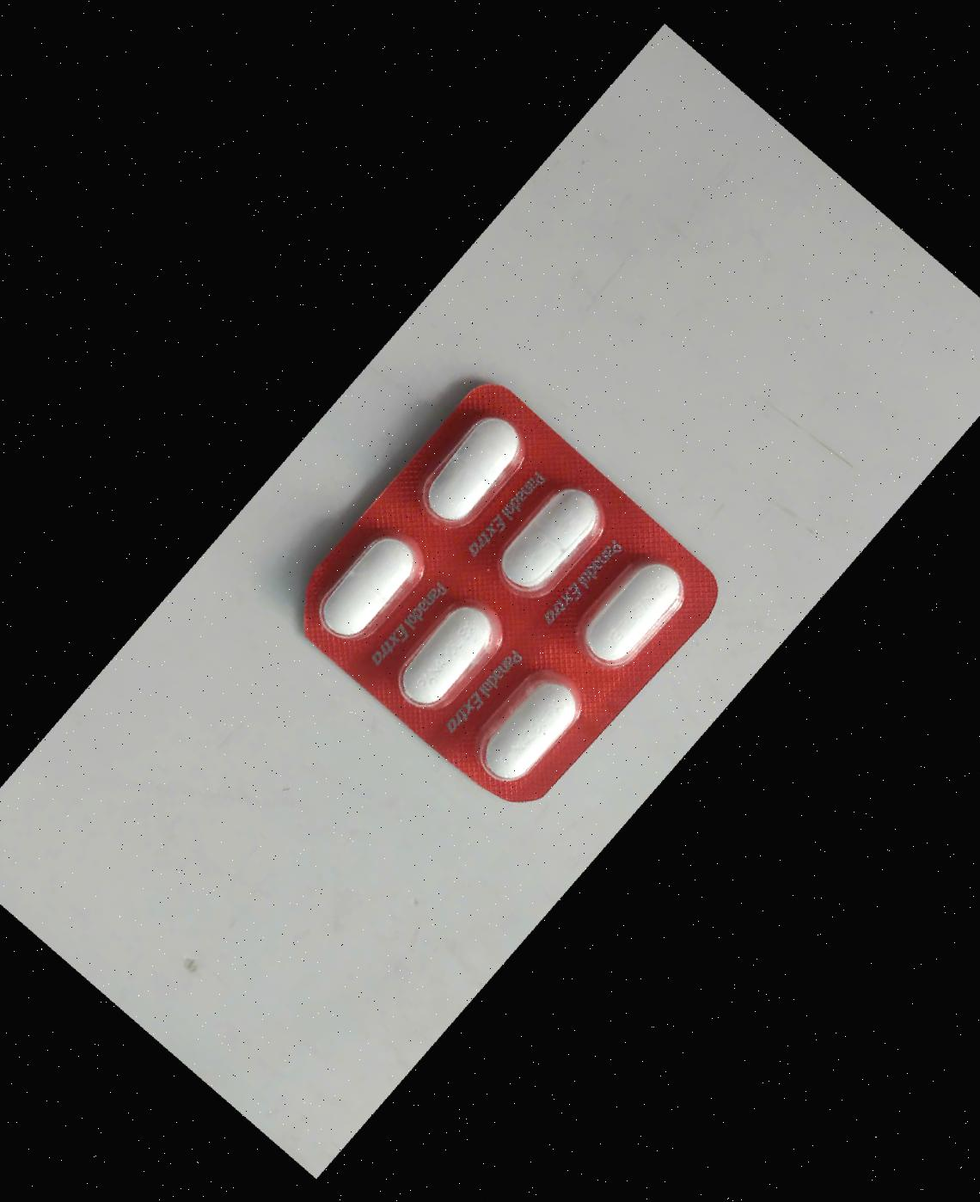Full: (392, 397, 548, 558), (453, 649, 609, 809), (368, 574, 524, 734), (291, 507, 447, 667), (467, 464, 623, 624), (553, 539, 708, 699)
